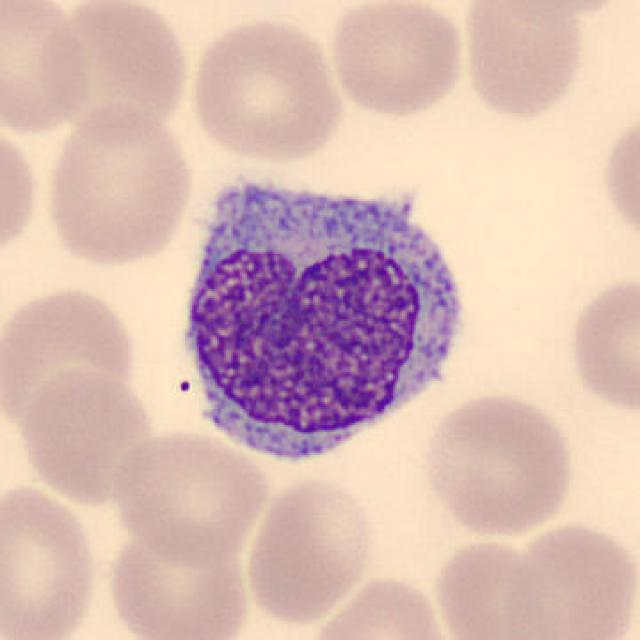Monocyte: (166, 160, 478, 480)
RBC: (39, 98, 197, 272), (185, 12, 347, 166), (418, 388, 578, 539), (107, 425, 270, 566), (0, 282, 146, 437), (34, 0, 192, 139), (240, 472, 379, 626), (14, 363, 160, 506), (102, 520, 255, 640), (326, 0, 470, 120), (498, 518, 638, 640), (0, 479, 103, 640), (456, 0, 590, 123), (428, 532, 566, 640), (0, 0, 98, 138), (563, 268, 640, 418), (304, 573, 455, 640), (0, 115, 43, 272), (597, 106, 640, 252), (484, 0, 634, 21)
